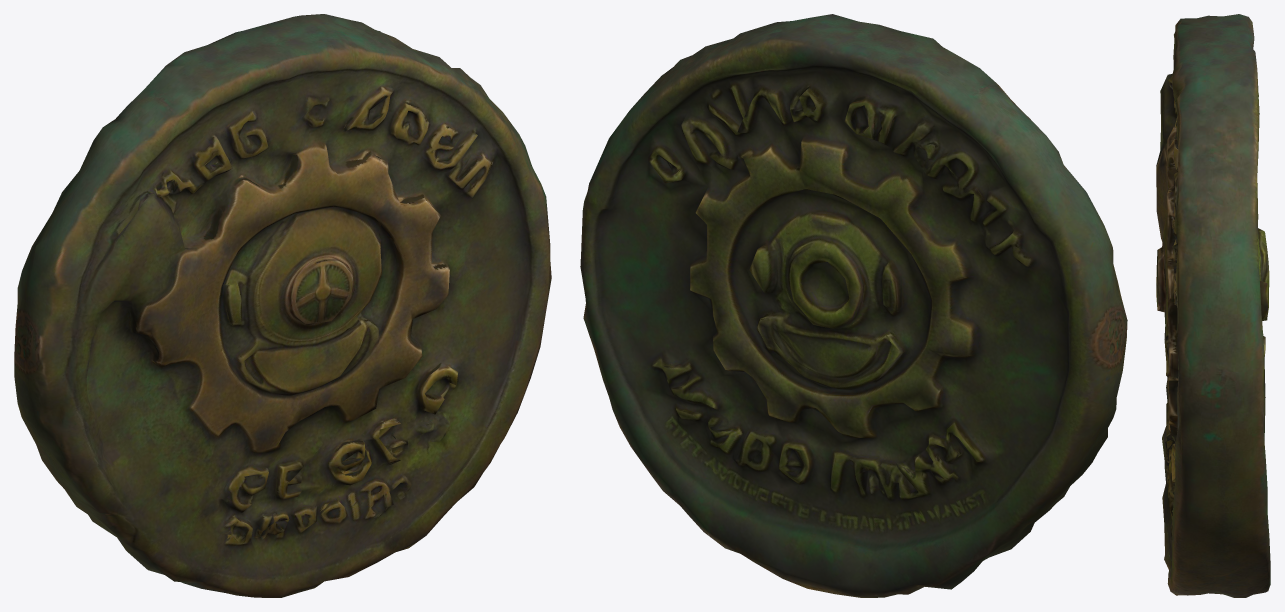
File: Calyx_Company_Token_1115181745_texture.fbx
The picture shows the model from 3 angles, left to right: view 1: azimuth 30°, elevation 25°; view 2: azimuth 150°, elevation 25°; view 3: azimuth 270°, elevation 25°; orthographic projection. The views are drawn at different scales.
Parts seen in each view (by area): view 1: Mesh1.0; view 2: Mesh1.0; view 3: Mesh1.0.
Part boxes in pixels (x1,y1,x2,y2): Mesh1.0: [14, 14, 551, 597]; Mesh1.0: [580, 14, 1127, 597]; Mesh1.0: [1156, 14, 1270, 597].
Bounding box in the file's own units: 201 × 200 × 39.95.
1 material, 1 textured.
